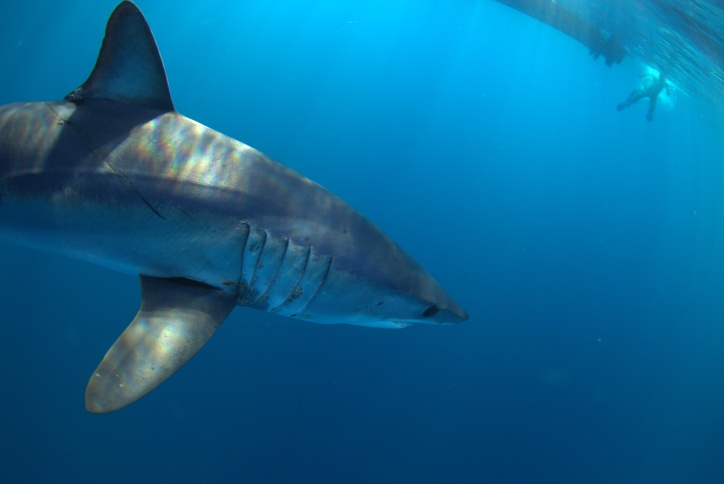Mako: (1, 1, 490, 416)
